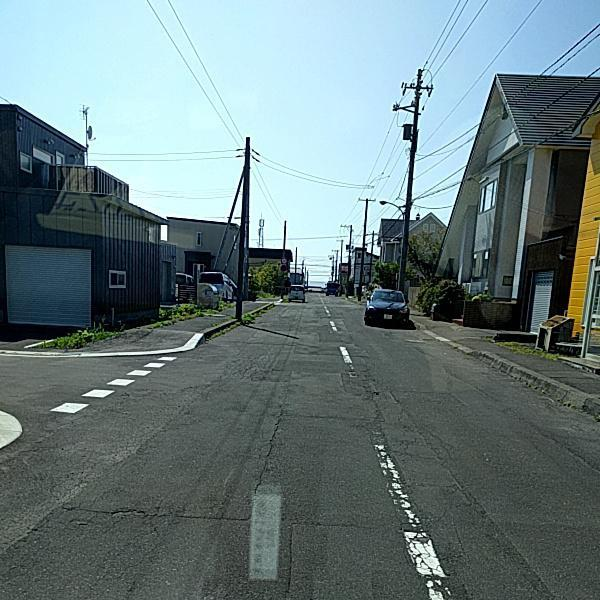D44: (366, 437, 452, 590)
